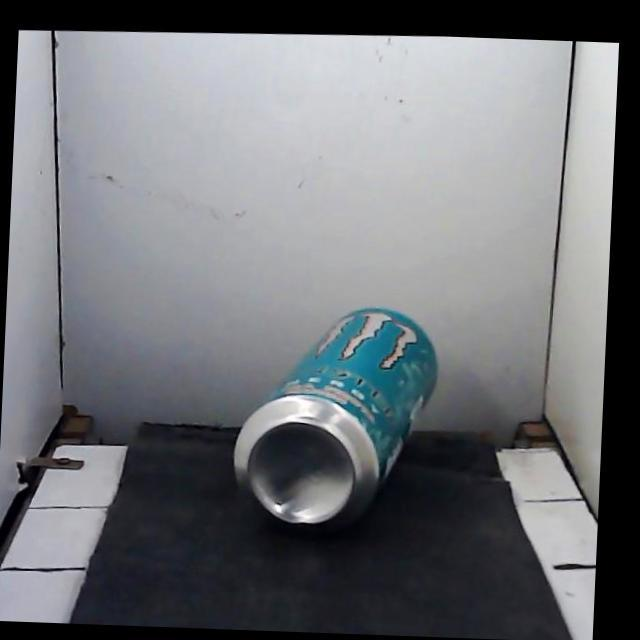metal: (234, 307, 436, 527)
